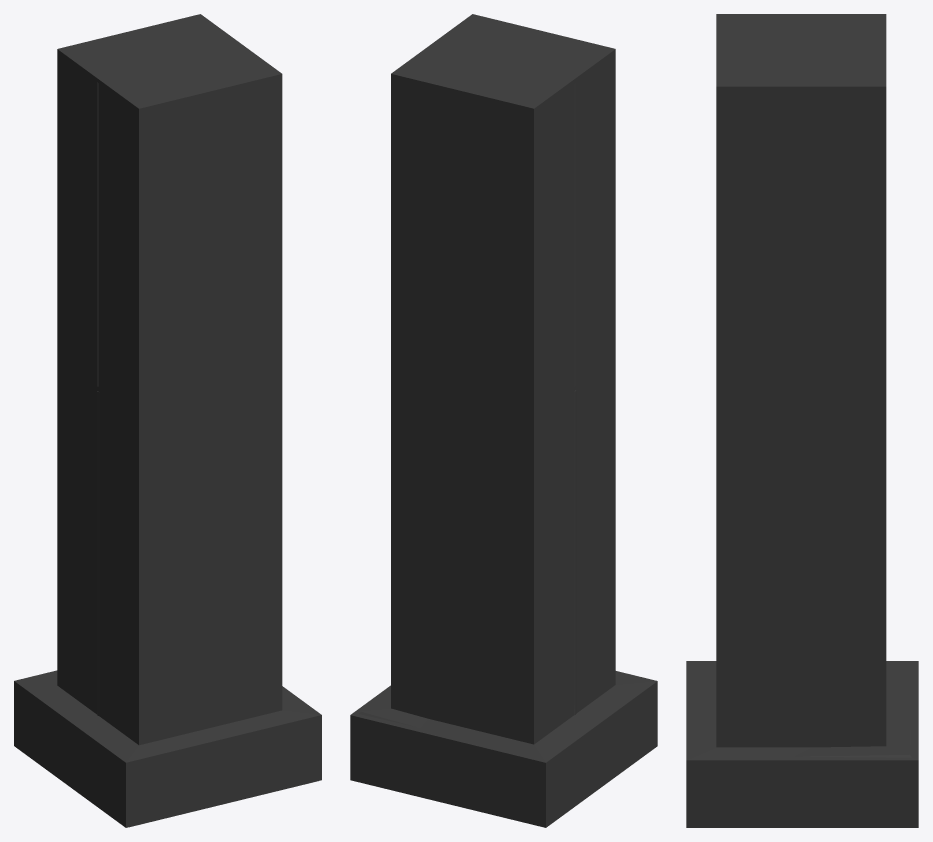
File: ruinpillar_01.glb
3 renders of one model, left to right at view 1: azimuth 30°, elevation 25°; view 2: azimuth 150°, elevation 25°; view 3: azimuth 270°, elevation 25°, orthographic. The views are drawn at different scales.
Visible parts, largest first — view 1: geometry_0; view 2: geometry_0; view 3: geometry_0.
Part boxes in pixels (x1,y1,x2,y2): geometry_0: (14,14,321,827); geometry_0: (350,14,657,827); geometry_0: (686,14,918,827).
Size of the model in its own units: 1.39 by 4.77 by 1.38.
1 material, 1 textured.
